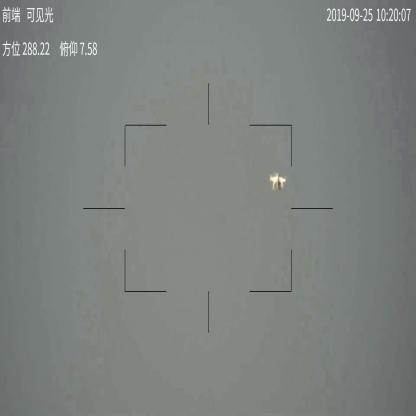uav: (268, 172, 288, 191)
